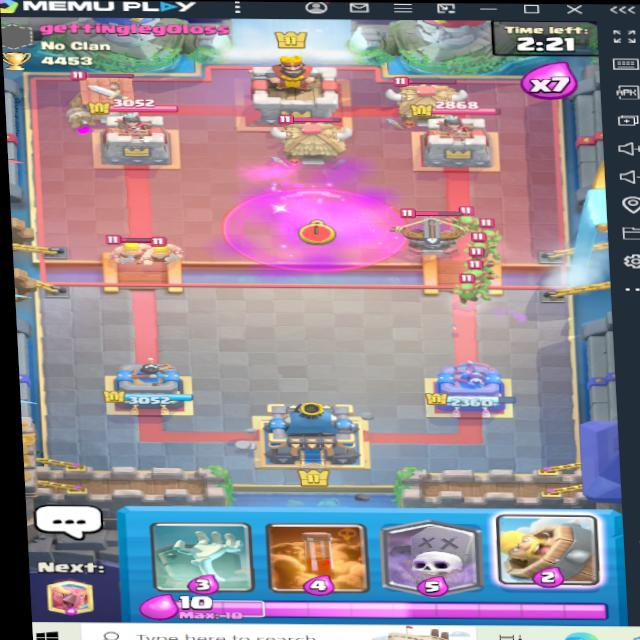barbarian: (139, 234, 188, 264), (105, 232, 153, 262)
barbarian-hut: (64, 67, 144, 129)
goblin-hut: (387, 72, 471, 127), (267, 114, 351, 159)
spear-goblin: (449, 278, 491, 301), (475, 219, 504, 245), (463, 263, 493, 287), (452, 207, 487, 227), (467, 235, 498, 257)
x-bow: (388, 200, 480, 254)
